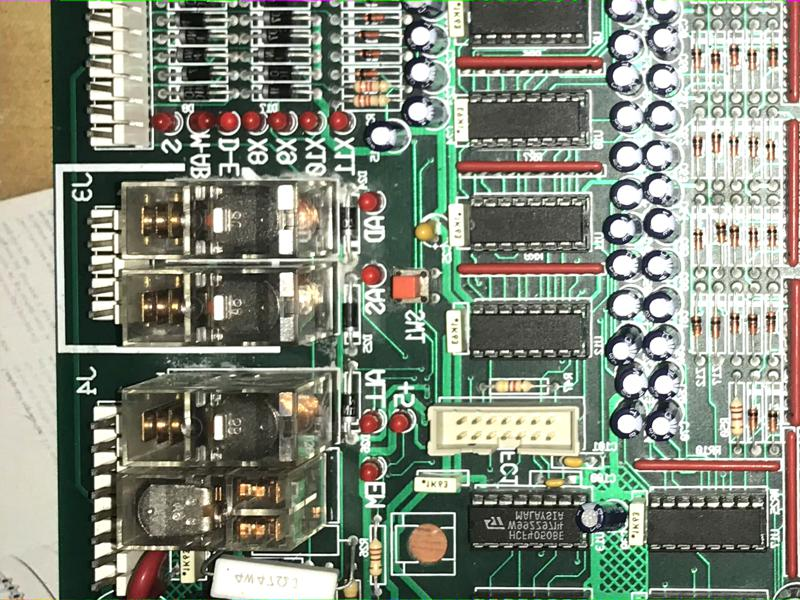Capacitor: (399, 95, 452, 130), (573, 500, 627, 534), (604, 324, 646, 366), (402, 56, 448, 93), (362, 120, 410, 155), (401, 21, 448, 56), (644, 400, 683, 442), (641, 172, 682, 209), (608, 400, 645, 440), (642, 287, 681, 324), (643, 324, 681, 361), (612, 362, 649, 399), (606, 286, 644, 322), (641, 249, 681, 283), (641, 139, 682, 172), (646, 24, 683, 60), (648, 362, 683, 400), (644, 209, 682, 244), (605, 62, 644, 96), (602, 213, 643, 245), (604, 248, 642, 282), (610, 99, 644, 133), (645, 63, 680, 96), (644, 100, 680, 132), (607, 30, 644, 61), (608, 140, 642, 173), (610, 177, 642, 212), (604, 1, 646, 26), (401, 1, 449, 21), (644, 1, 681, 21)
Diode: (342, 295, 360, 336), (339, 202, 358, 240), (341, 383, 358, 424), (255, 47, 294, 64), (258, 85, 298, 100), (259, 29, 296, 45), (175, 30, 214, 45), (177, 66, 216, 81), (259, 66, 298, 81), (171, 13, 212, 27), (176, 86, 214, 101), (259, 12, 296, 27), (763, 134, 778, 168), (175, 48, 208, 63), (766, 42, 780, 77), (727, 130, 741, 164), (708, 45, 723, 76), (710, 309, 723, 344), (713, 220, 728, 250), (745, 44, 759, 76), (709, 128, 722, 162), (746, 132, 760, 163), (689, 45, 703, 76), (747, 403, 760, 436), (691, 310, 705, 340), (746, 226, 761, 254), (691, 134, 705, 164), (729, 310, 742, 342), (728, 40, 741, 72), (766, 405, 779, 436), (747, 310, 759, 342), (765, 310, 777, 342), (356, 13, 390, 24), (767, 222, 778, 256), (728, 222, 740, 253), (692, 226, 705, 253), (355, 68, 384, 79), (356, 30, 387, 40), (357, 49, 386, 59)
LED: (326, 110, 358, 136), (266, 110, 297, 136), (148, 112, 184, 134), (188, 108, 216, 134), (296, 111, 327, 134), (241, 109, 268, 135), (360, 262, 388, 287), (356, 191, 386, 214), (358, 409, 385, 434), (358, 458, 385, 482), (388, 412, 414, 433), (216, 112, 239, 135)
Resistor: (368, 530, 384, 582), (350, 79, 395, 94), (349, 95, 394, 109), (491, 379, 536, 393), (731, 393, 744, 440)
